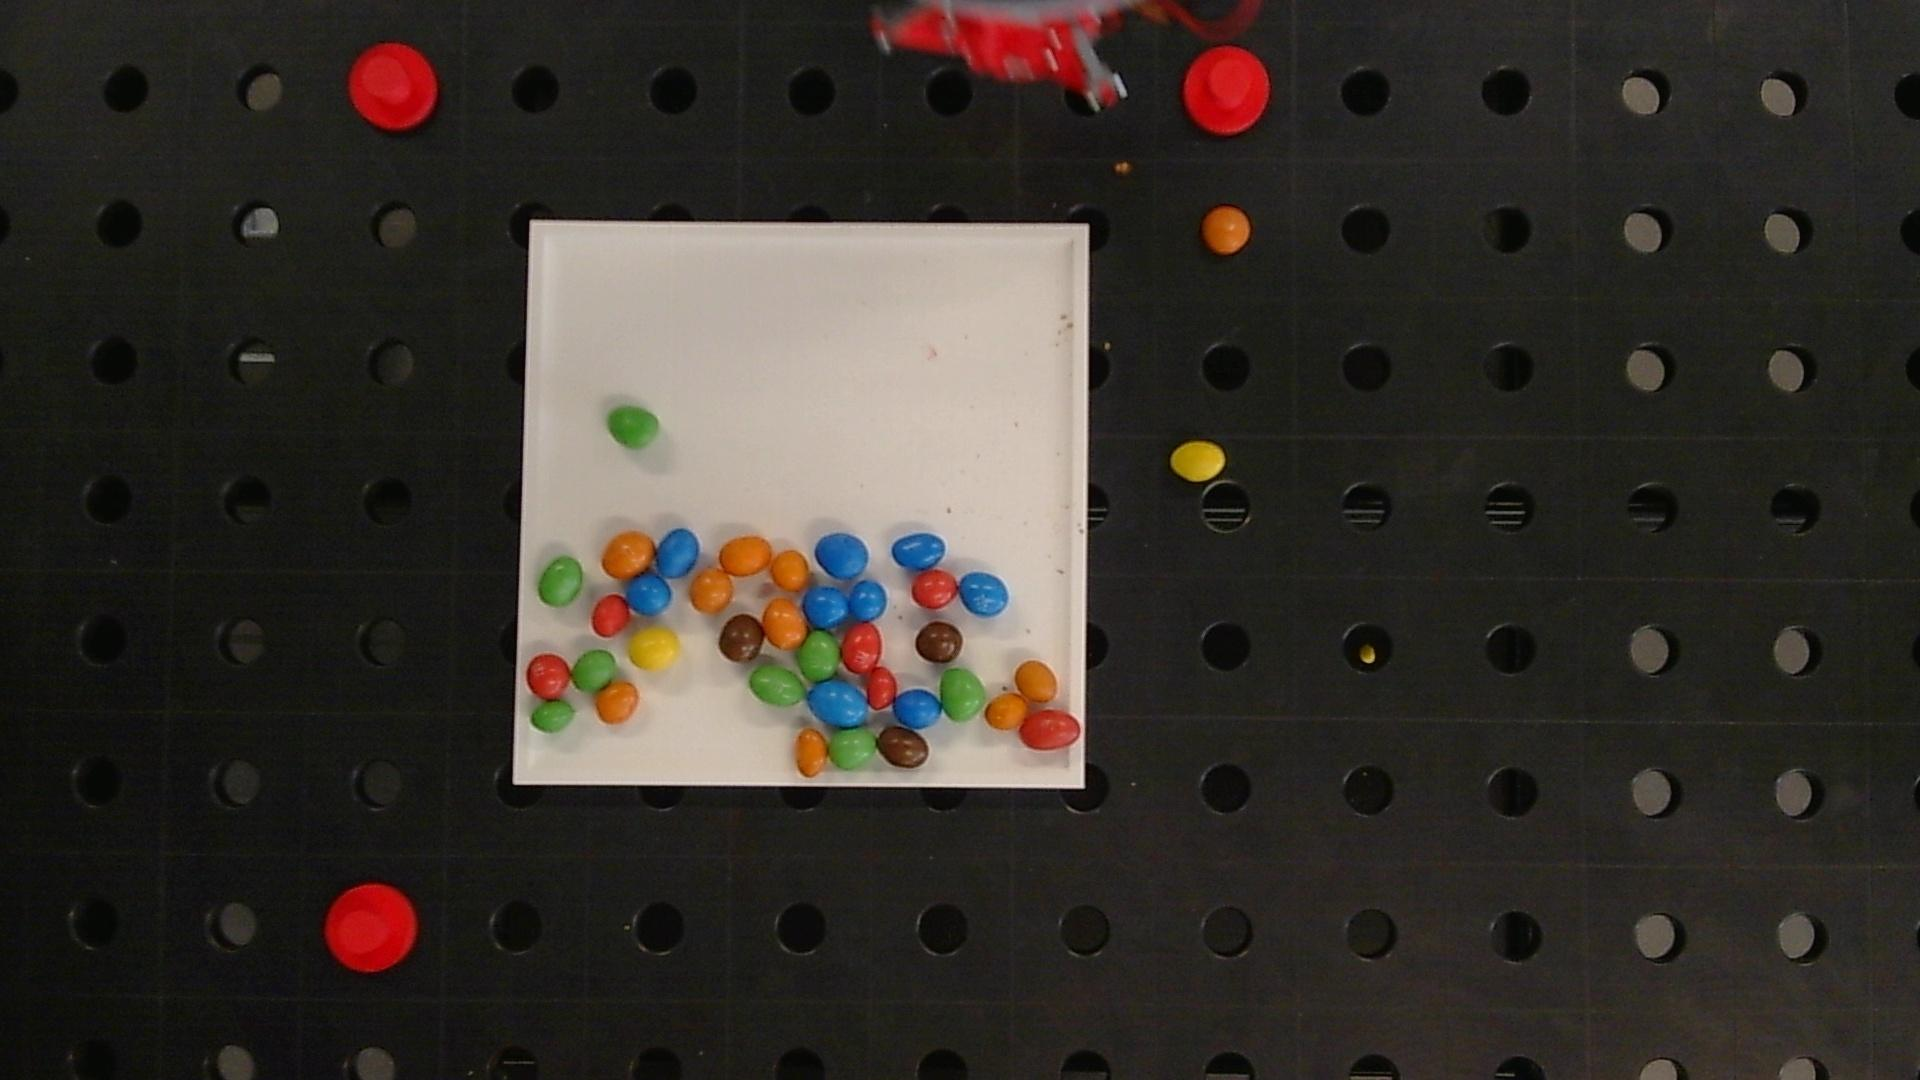blue: (808, 679, 868, 727), (815, 531, 869, 579), (960, 571, 1009, 616), (657, 529, 700, 578), (891, 533, 947, 570), (893, 690, 943, 728), (626, 572, 671, 615), (803, 585, 848, 628), (849, 580, 887, 620)
brown: (877, 725, 930, 769), (719, 613, 764, 662), (915, 621, 963, 663)
green: (749, 665, 806, 708), (940, 669, 986, 721), (607, 406, 661, 448), (538, 556, 583, 605), (798, 632, 840, 680), (828, 729, 877, 770), (572, 650, 615, 691), (530, 700, 576, 733)
orange: (601, 531, 655, 579), (1201, 206, 1251, 253), (764, 599, 807, 649), (719, 535, 773, 575), (690, 568, 733, 613), (595, 680, 638, 724), (1015, 659, 1058, 703), (795, 729, 828, 777), (771, 550, 808, 592), (985, 694, 1027, 729)
red: (1018, 711, 1081, 749), (526, 653, 571, 699), (843, 622, 881, 673), (911, 571, 959, 609), (591, 595, 630, 637), (866, 667, 897, 709)
yellow: (628, 626, 680, 671), (1168, 442, 1226, 481)
